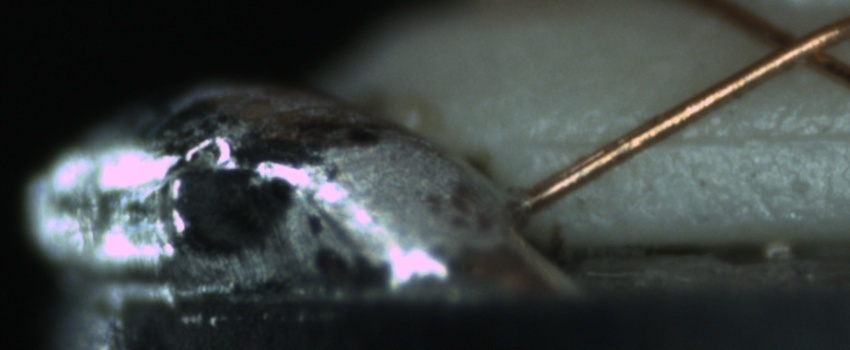CL: (745, 12, 846, 79)
DL: (545, 113, 849, 172)
